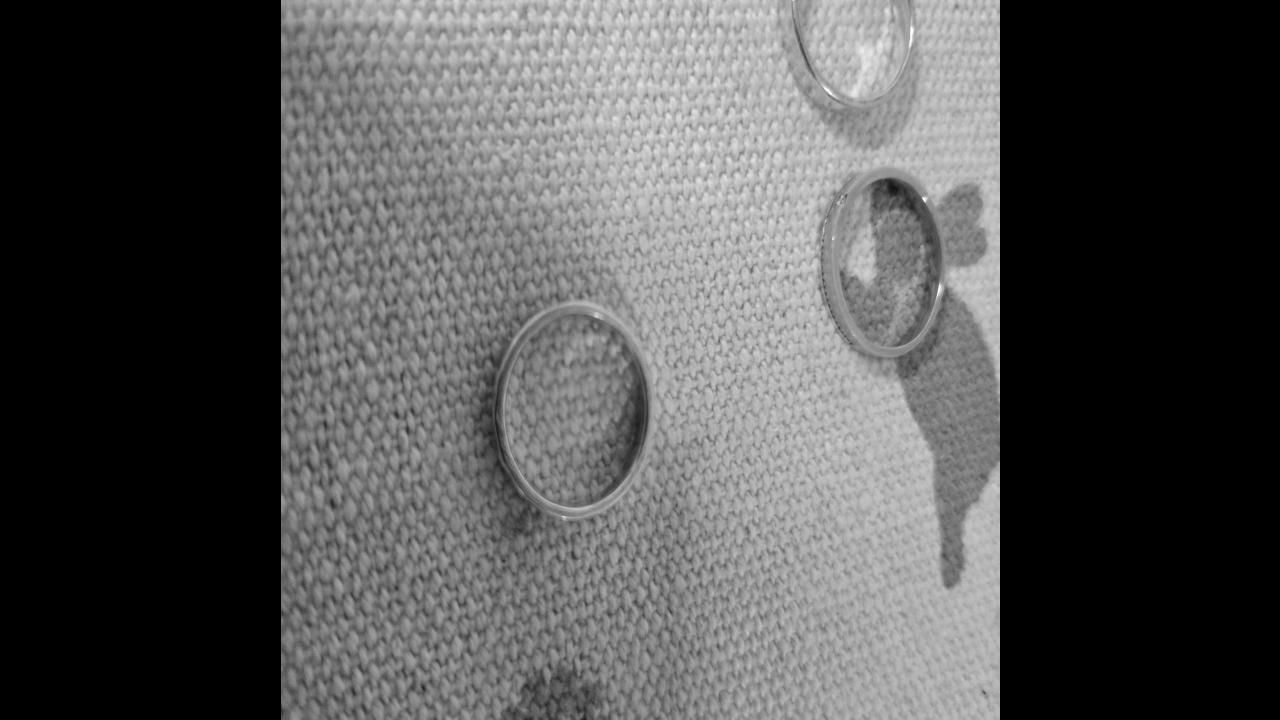ring: (494, 300, 652, 520), (819, 167, 945, 361), (782, 0, 916, 111)
